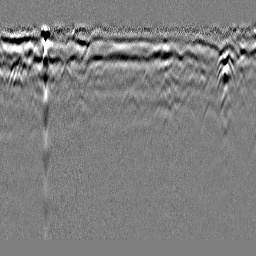cavity: (117, 86, 139, 117)
